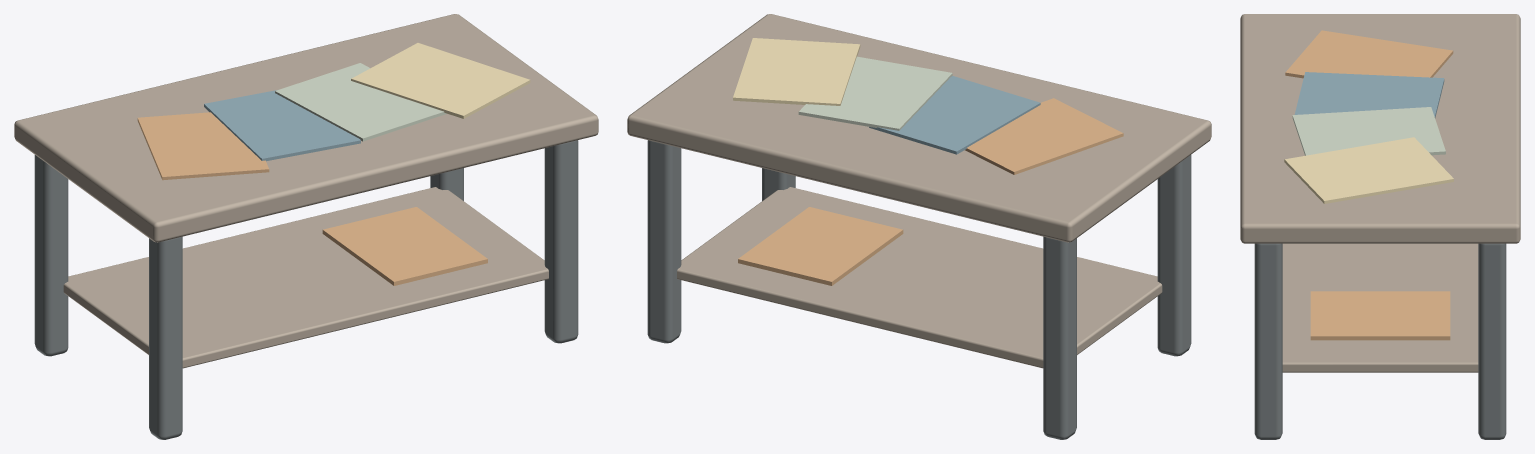
The model's file is low-table-with-magazines.glb.
3 renders of one model, left to right at view 1: azimuth 30°, elevation 25°; view 2: azimuth 150°, elevation 25°; view 3: azimuth 270°, elevation 25°, orthographic.
Visible parts, largest first — view 1: 151-low-table-with-magazines/0, 151-low-table-with-magazines/1, 151-low-table-with-magazines/2, 151-low-table-with-magazines/5, 151-low-table-with-magazines/4, 151-low-table-with-magazines/3; view 2: 151-low-table-with-magazines/0, 151-low-table-with-magazines/1, 151-low-table-with-magazines/2, 151-low-table-with-magazines/5, 151-low-table-with-magazines/3, 151-low-table-with-magazines/4; view 3: 151-low-table-with-magazines/0, 151-low-table-with-magazines/2, 151-low-table-with-magazines/1, 151-low-table-with-magazines/5, 151-low-table-with-magazines/4, 151-low-table-with-magazines/3.
Boxes of the visible parts, box(x1,y1,x2,y2) form: 151-low-table-with-magazines/0: box(14, 14, 598, 368); 151-low-table-with-magazines/1: box(34, 140, 578, 439); 151-low-table-with-magazines/2: box(137, 112, 487, 285); 151-low-table-with-magazines/5: box(351, 43, 530, 118); 151-low-table-with-magazines/4: box(275, 63, 446, 141); 151-low-table-with-magazines/3: box(204, 90, 360, 161); 151-low-table-with-magazines/0: box(627, 14, 1211, 368); 151-low-table-with-magazines/1: box(647, 140, 1191, 439); 151-low-table-with-magazines/2: box(738, 98, 1123, 285); 151-low-table-with-magazines/5: box(733, 38, 860, 105); 151-low-table-with-magazines/3: box(869, 76, 1040, 154); 151-low-table-with-magazines/4: box(798, 56, 952, 130); 151-low-table-with-magazines/0: box(1240, 14, 1520, 372); 151-low-table-with-magazines/2: box(1285, 30, 1453, 340); 151-low-table-with-magazines/1: box(1254, 243, 1506, 439); 151-low-table-with-magazines/5: box(1284, 137, 1453, 203); 151-low-table-with-magazines/4: box(1292, 107, 1445, 155); 151-low-table-with-magazines/3: box(1294, 72, 1444, 118).
Bounding box in the file's own units: 0.9 × 0.462 × 0.5001.
